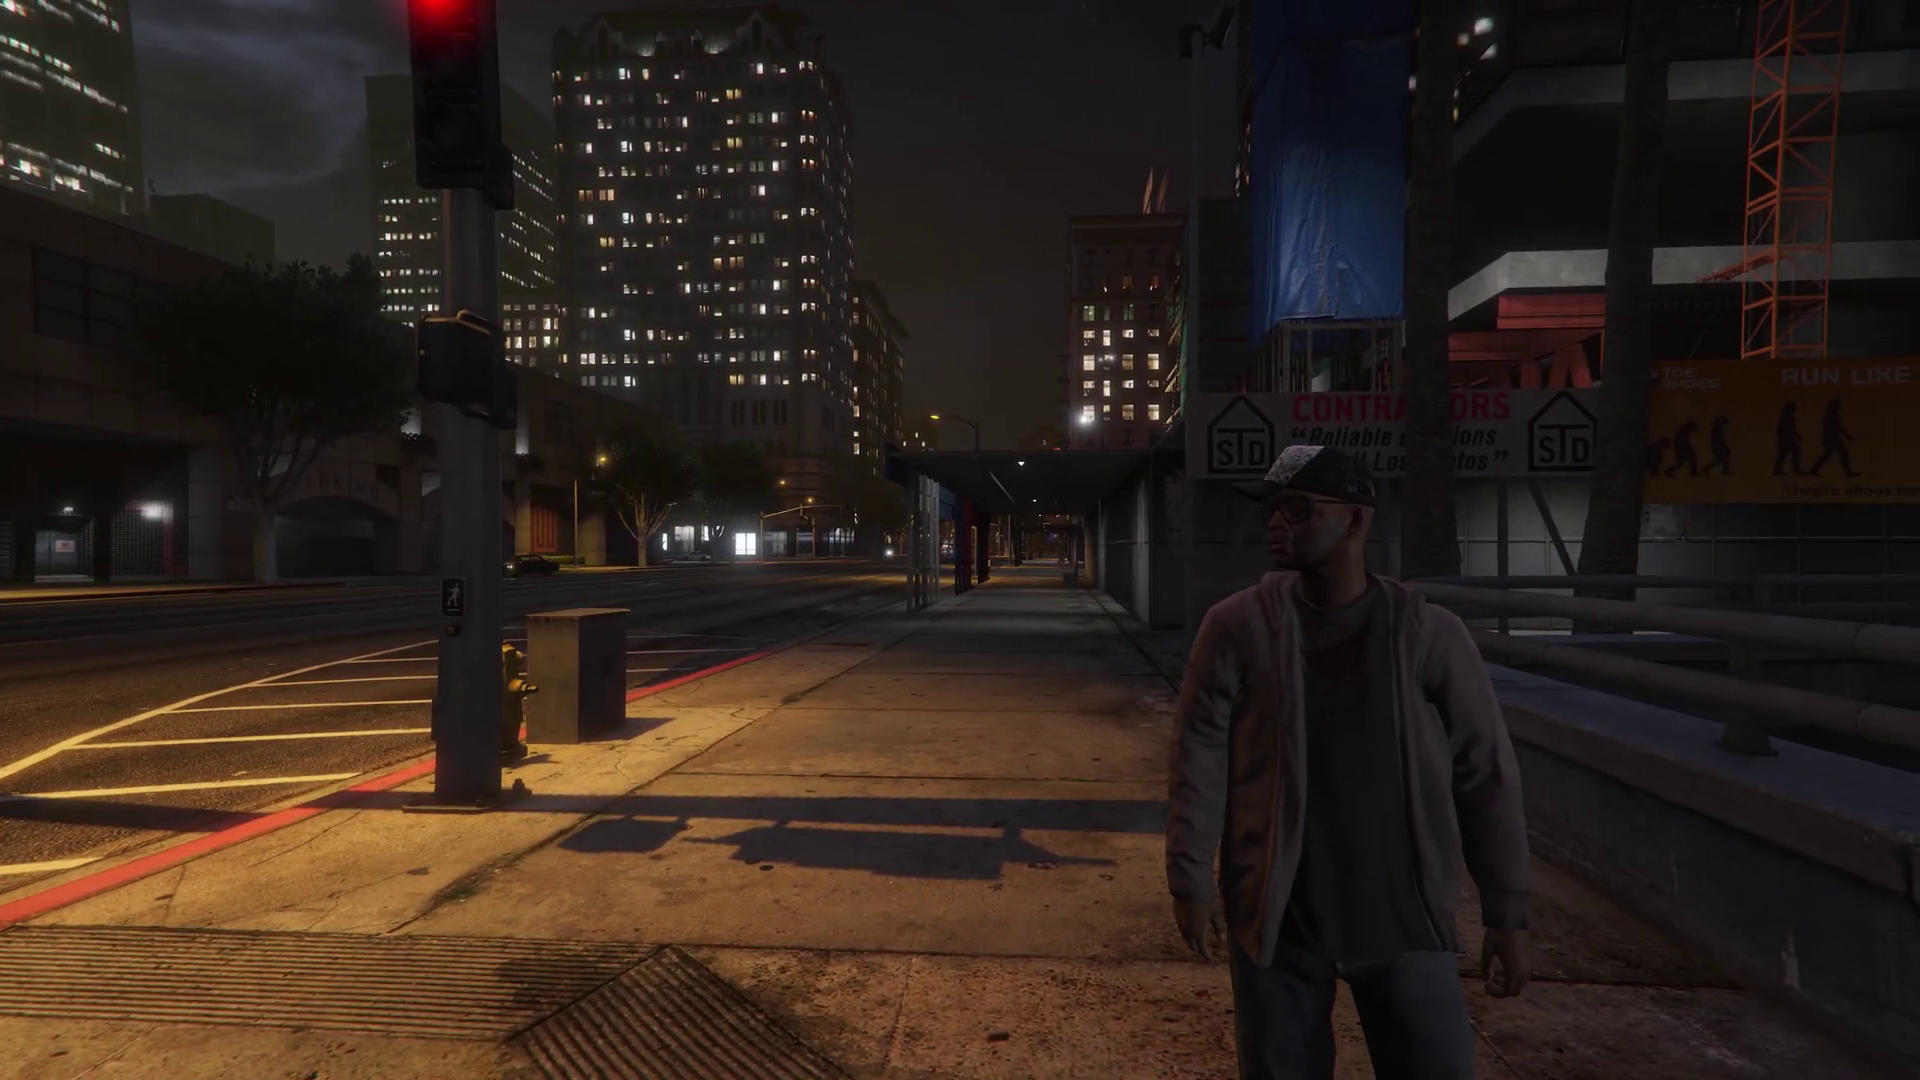car: (503, 554, 560, 575), (676, 551, 710, 562)
person: (1170, 444, 1529, 1080)
traffic light: (400, 1, 497, 185), (417, 314, 494, 411)
